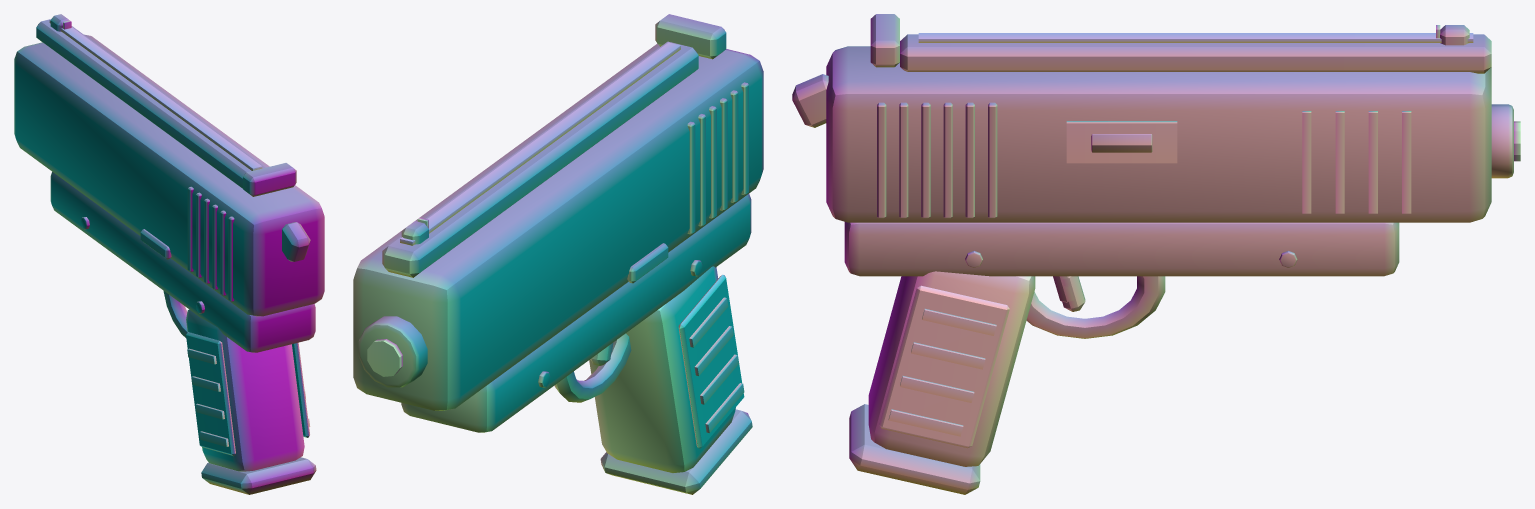
Rendered from wpn_deagle.glb.
3 renders of one model, left to right at view 1: azimuth 30°, elevation 25°; view 2: azimuth 150°, elevation 25°; view 3: azimuth 270°, elevation 25°, orthographic. The views are drawn at different scales.
Visible parts, largest first — view 1: wpn_deagle_mesh; view 2: wpn_deagle_mesh; view 3: wpn_deagle_mesh.
Boxes of the visible parts, box(x1,y1,x2,y2) form: wpn_deagle_mesh: box(14, 14, 324, 494); wpn_deagle_mesh: box(353, 14, 763, 494); wpn_deagle_mesh: box(792, 14, 1520, 494).
Bounding box in the file's own units: 0.0385 × 0.1335 × 0.1969.
